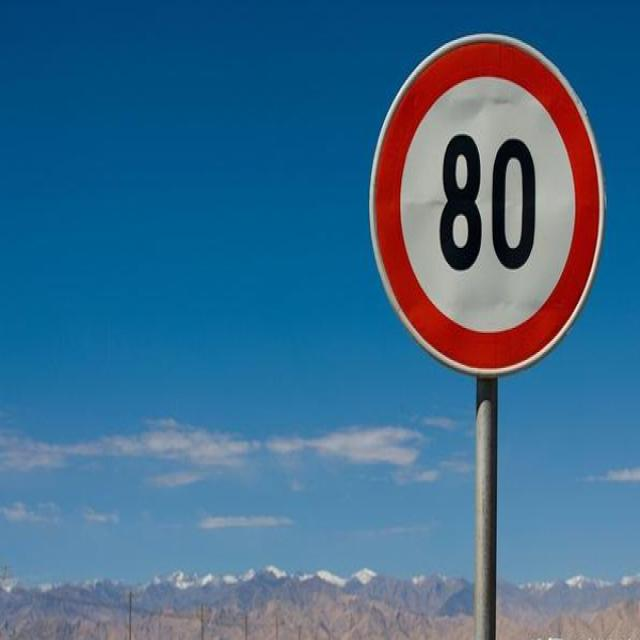speed limit 80: (368, 33, 607, 377)
